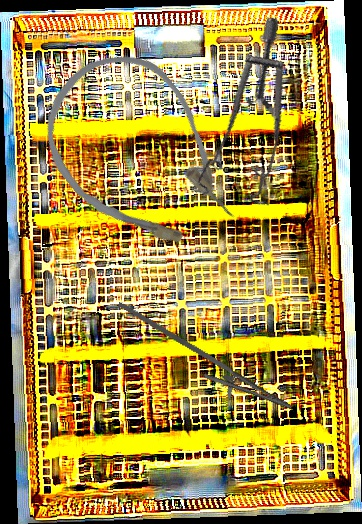Cannula: (17, 29, 263, 285)
Needle Holder: (101, 300, 303, 425)
Speculum: (157, 14, 322, 223)
